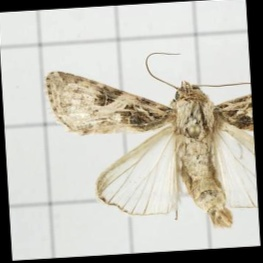Spodoptera litura: (48, 52, 254, 233)
